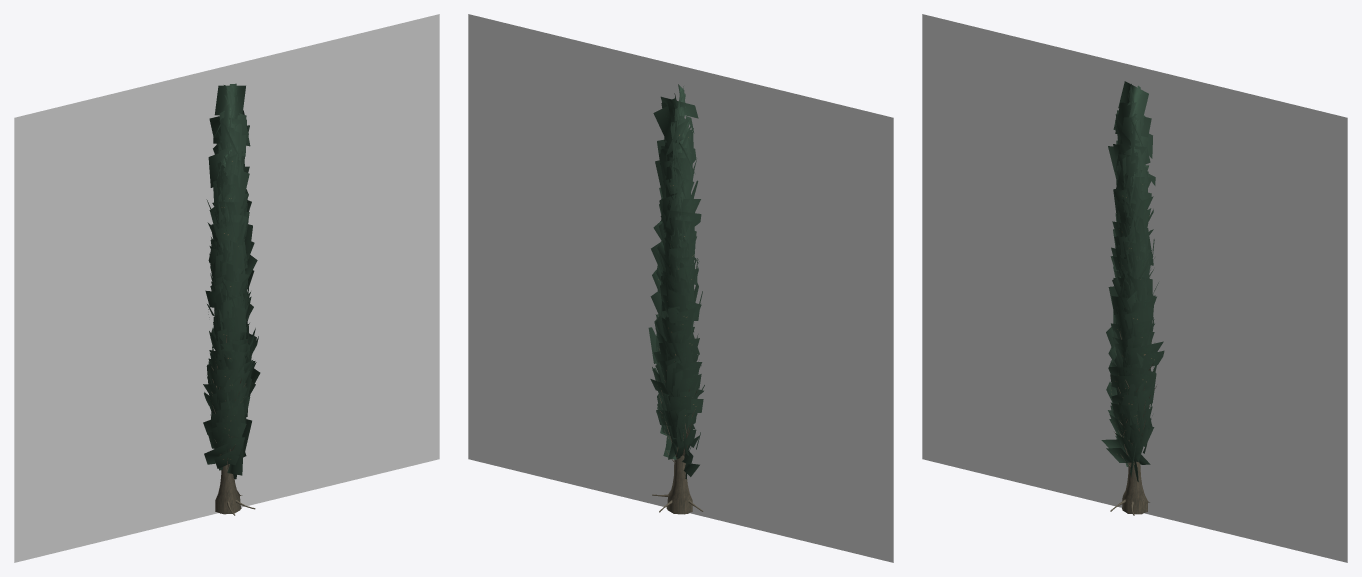
File: cypres_adulte_d.fbx
3 renders of one model, left to right at view 1: azimuth 30°, elevation 25°; view 2: azimuth 150°, elevation 25°; view 3: azimuth 330°, elevation 25°, orthographic.
Visible parts, largest first — view 1: cypres_adulte_d_LOD3, cypres_adulte_d_LOD1, cypres_adulte_d_LOD2; view 2: cypres_adulte_d_LOD3, cypres_adulte_d_LOD1, cypres_adulte_d_LOD2; view 3: cypres_adulte_d_LOD3, cypres_adulte_d_LOD1, cypres_adulte_d_LOD2.
Part boxes in pixels (x1,y1,x2,y2): cypres_adulte_d_LOD3: (14, 14, 439, 562); cypres_adulte_d_LOD1: (203, 83, 260, 515); cypres_adulte_d_LOD2: (203, 85, 257, 513); cypres_adulte_d_LOD3: (468, 14, 893, 562); cypres_adulte_d_LOD1: (650, 84, 704, 514); cypres_adulte_d_LOD2: (648, 96, 703, 513); cypres_adulte_d_LOD3: (922, 14, 1347, 562); cypres_adulte_d_LOD1: (1106, 84, 1164, 515); cypres_adulte_d_LOD2: (1101, 81, 1163, 514).
Size of what is drawn, in the model's own units: 14 by 14 by 1.88.
